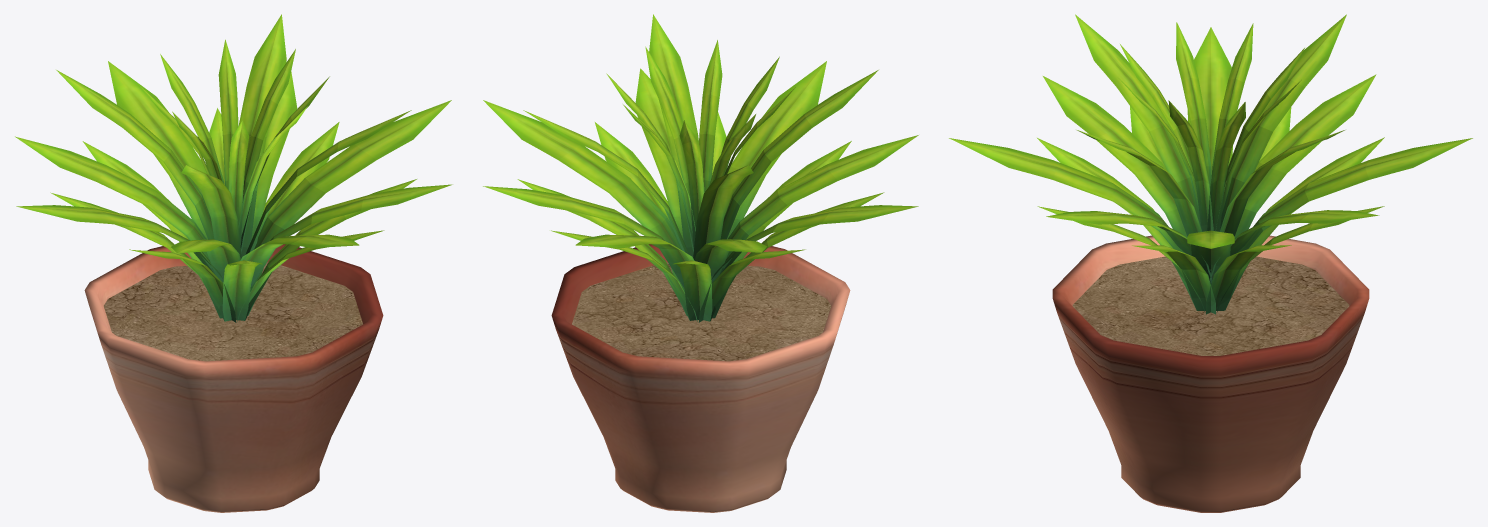
The model's file is sweethome3d-blendswap-cc-0-little-plant.glb.
3 views of the same model, side by side, from view 1: azimuth 30°, elevation 25°; view 2: azimuth 150°, elevation 25°; view 3: azimuth 270°, elevation 25° (orthographic). The views are drawn at different scales.
Visible parts, largest first — view 1: 3_3, 1_1, 2_2; view 2: 3_3, 1_1, 2_2; view 3: 3_3, 1_1, 2_2.
Part boxes in pixels (x1,y1,x2,y2): 3_3: [15, 14, 452, 322]; 1_1: [84, 244, 383, 512]; 2_2: [104, 262, 362, 361]; 3_3: [483, 14, 918, 322]; 1_1: [551, 244, 850, 512]; 2_2: [572, 262, 830, 361]; 3_3: [949, 14, 1472, 314]; 1_1: [1052, 235, 1369, 512]; 2_2: [1072, 256, 1349, 355].
Bounding box in the file's own units: 26.6 × 23.19 × 26.6.
Materials: 3 (3 with a texture image).
